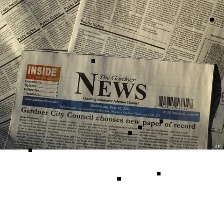news_paper: (2, 45, 221, 149), (64, 0, 224, 105), (0, 0, 85, 150)
